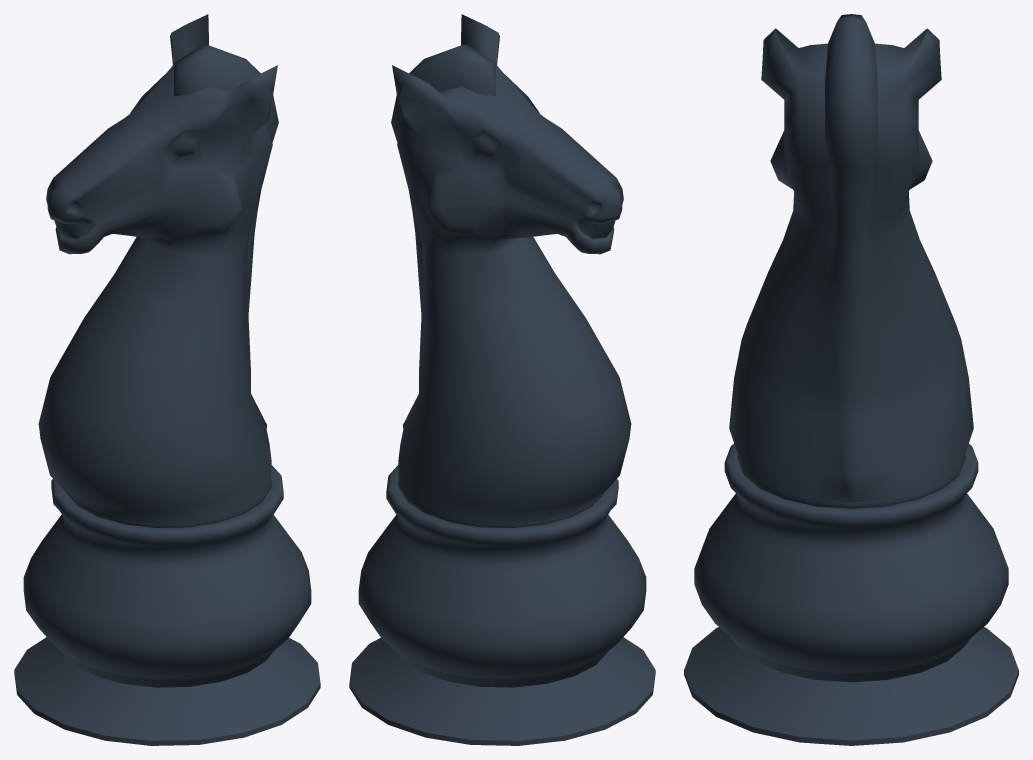
File: black-knight.glb
3 renders of one model, left to right at view 1: azimuth 30°, elevation 25°; view 2: azimuth 150°, elevation 25°; view 3: azimuth 270°, elevation 25°, orthographic. The views are drawn at different scales.
Visible parts, largest first — view 1: White_knight; view 2: White_knight; view 3: White_knight.
Part boxes in pixels (<box>): White_knight: <box>14,14,320,745</box>; White_knight: <box>349,14,655,745</box>; White_knight: <box>684,14,1018,745</box>.
Size of the model in its own units: 0.0411 by 0.0921 by 0.0411.
